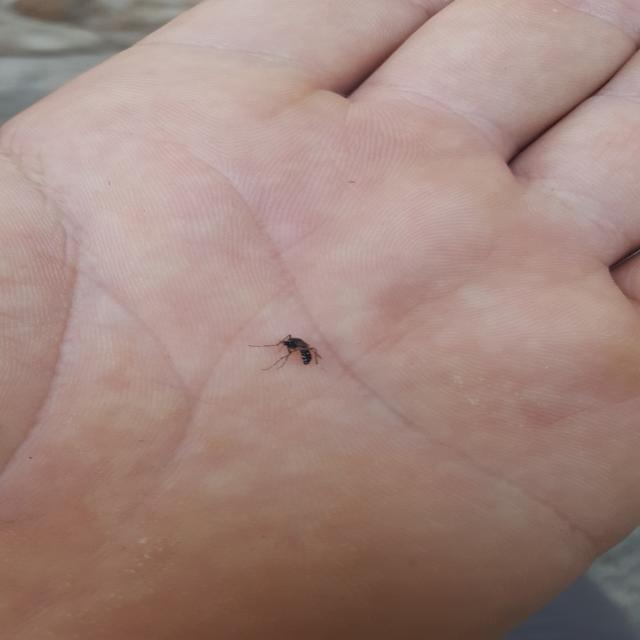albopictus: (243, 332, 327, 371)
